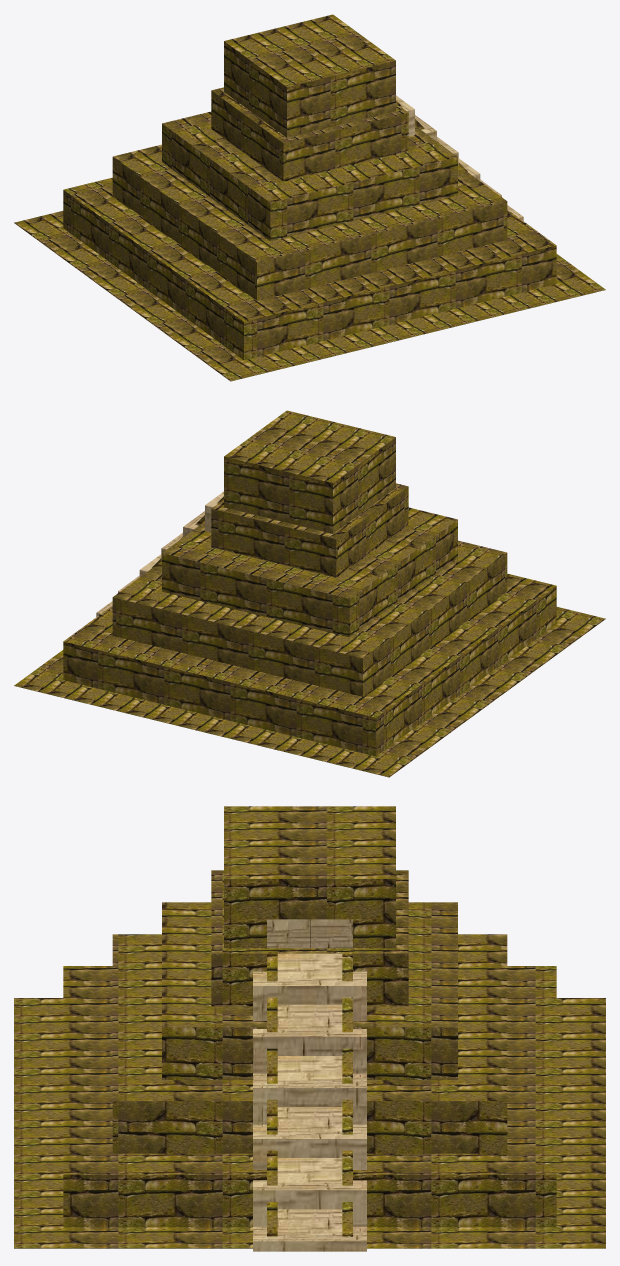
File: sacred-ziggurat-1.glb
3 views of the same model, one above another, from view 1: azimuth 30°, elevation 25°; view 2: azimuth 150°, elevation 25°; view 3: azimuth 270°, elevation 25° (orthographic). The views are drawn at different scales.
Visible parts, largest first — view 1: Sacred-sacred-ziggurat-1-surface-0, Sacred-sacred-ziggurat-1-surface-1; view 2: Sacred-sacred-ziggurat-1-surface-0, Sacred-sacred-ziggurat-1-surface-1; view 3: Sacred-sacred-ziggurat-1-surface-0, Sacred-sacred-ziggurat-1-surface-1.
Part boxes in pixels (x1,y1,x2,y2): Sacred-sacred-ziggurat-1-surface-0: [14, 14, 605, 381]; Sacred-sacred-ziggurat-1-surface-1: [396, 95, 523, 220]; Sacred-sacred-ziggurat-1-surface-0: [14, 410, 605, 777]; Sacred-sacred-ziggurat-1-surface-1: [96, 491, 223, 616]; Sacred-sacred-ziggurat-1-surface-0: [14, 806, 605, 1248]; Sacred-sacred-ziggurat-1-surface-1: [253, 919, 366, 1251].
Size of the model in its own units: 10.8 by 5.58 by 10.65.
4 materials, 3 textured.
